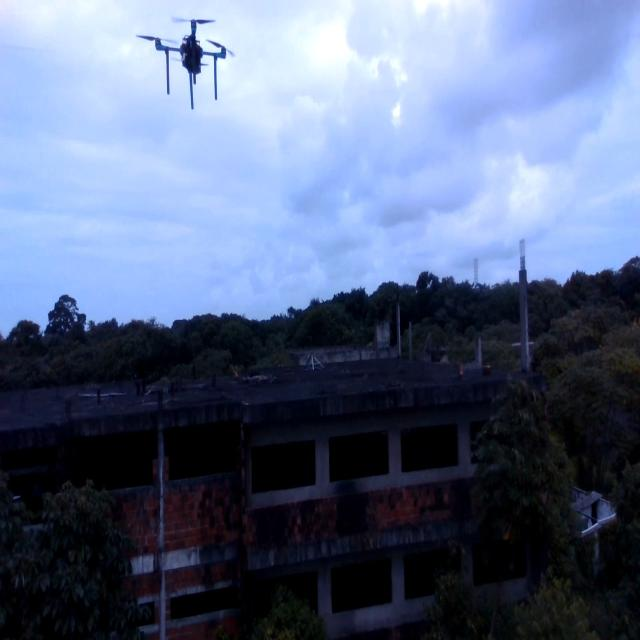-uav-: (132, 0, 244, 129)
